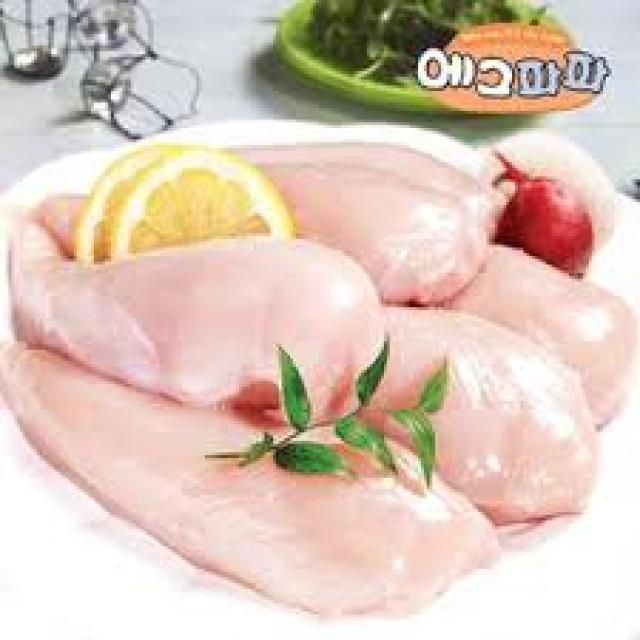chicken: (15, 344, 504, 629), (0, 219, 388, 430), (374, 299, 608, 524), (429, 242, 635, 440)
